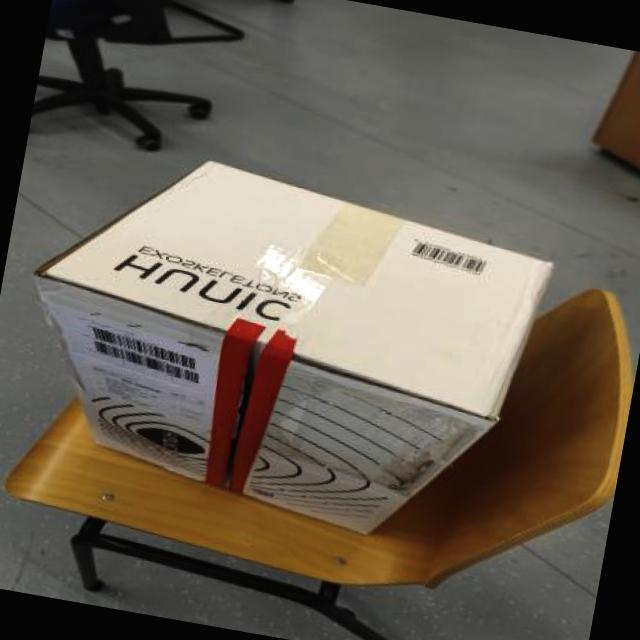box: (1, 134, 599, 560)
